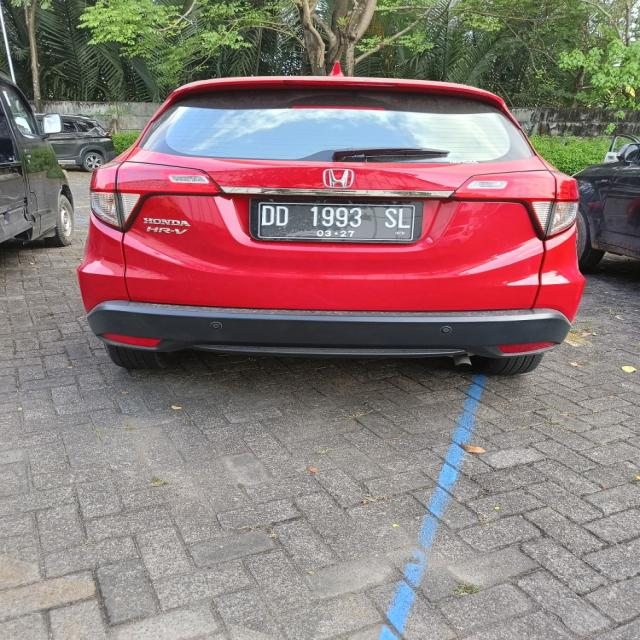plates: (256, 198, 416, 244)
